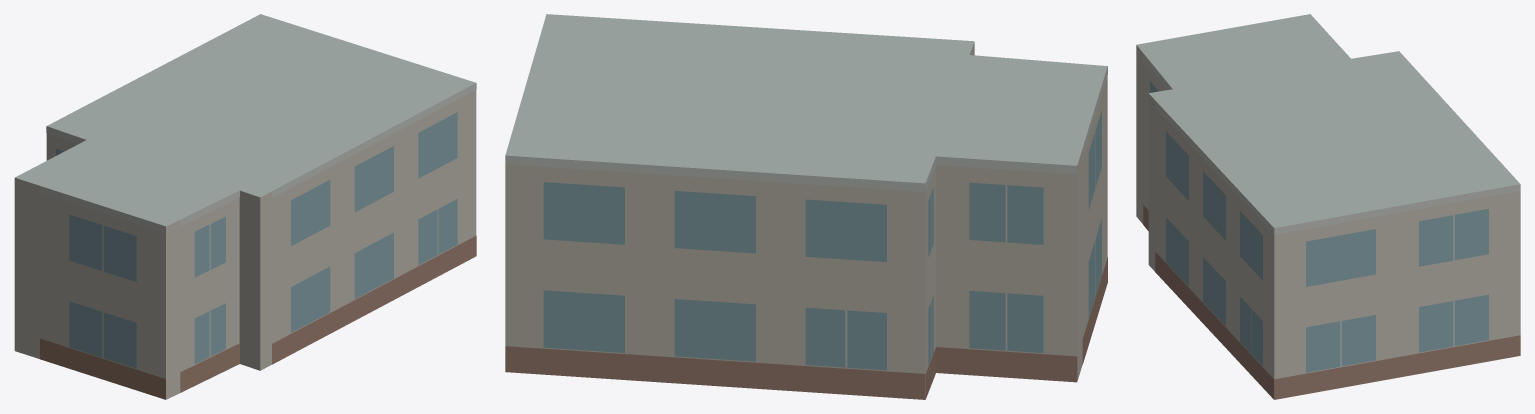
Rendered from survey-upis-32843132.glb.
3 views of the same model, side by side, from view 1: azimuth 30°, elevation 25°; view 2: azimuth 150°, elevation 25°; view 3: azimuth 270°, elevation 25° (orthographic). The views are drawn at different scales.
Parts seen in each view (by area): view 1: survey-upis-32843132.tmp; view 2: survey-upis-32843132.tmp; view 3: survey-upis-32843132.tmp.
Boxes of the visible parts, x1,y1,x2,y2 form: survey-upis-32843132.tmp: (14,14,476,399); survey-upis-32843132.tmp: (505,14,1107,399); survey-upis-32843132.tmp: (1136,14,1520,399).
Bounding box in the file's own units: 16.33 × 6.1 × 12.38.
